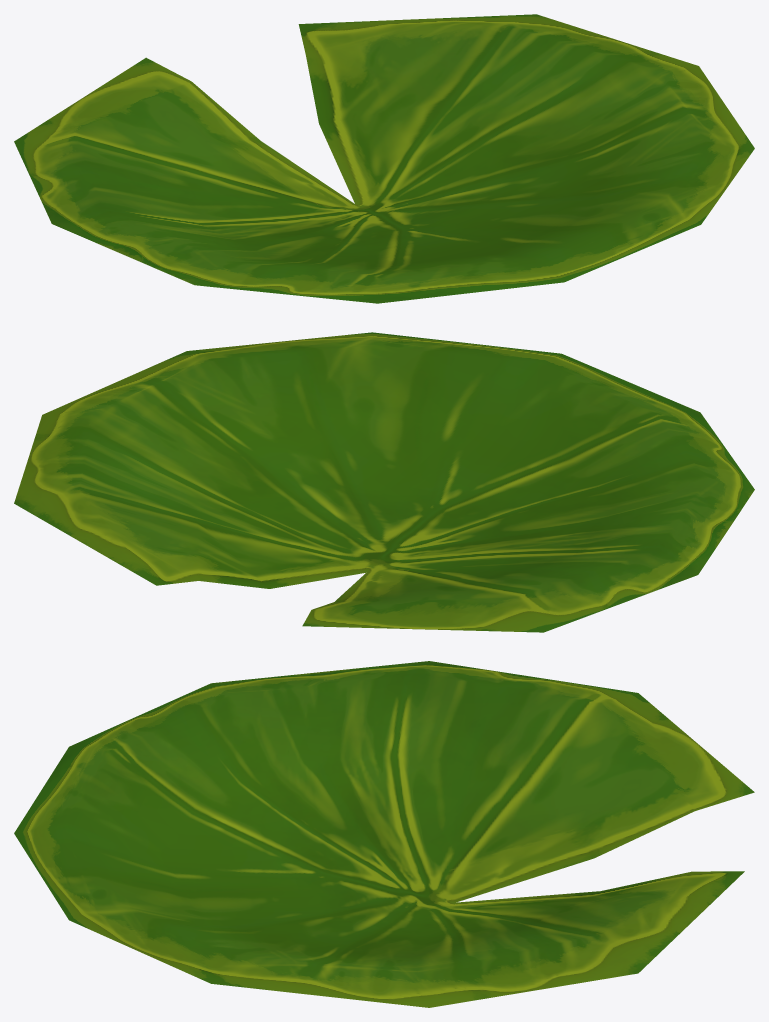
Rendered from LilyPad.fbx.
3 renders of one model, top to bottom at view 1: azimuth 30°, elevation 25°; view 2: azimuth 150°, elevation 25°; view 3: azimuth 270°, elevation 25°, orthographic. The views are drawn at different scales.
Visible parts, largest first — view 1: LilyPad; view 2: LilyPad; view 3: LilyPad.
Part boxes in pixels (left/top/right/bottom): LilyPad: left=14, top=14, right=754, bottom=303; LilyPad: left=14, top=332, right=754, bottom=632; LilyPad: left=14, top=661, right=754, bottom=1007.
Size of the model in its own units: 23.18 by 2.62 by 20.92.
